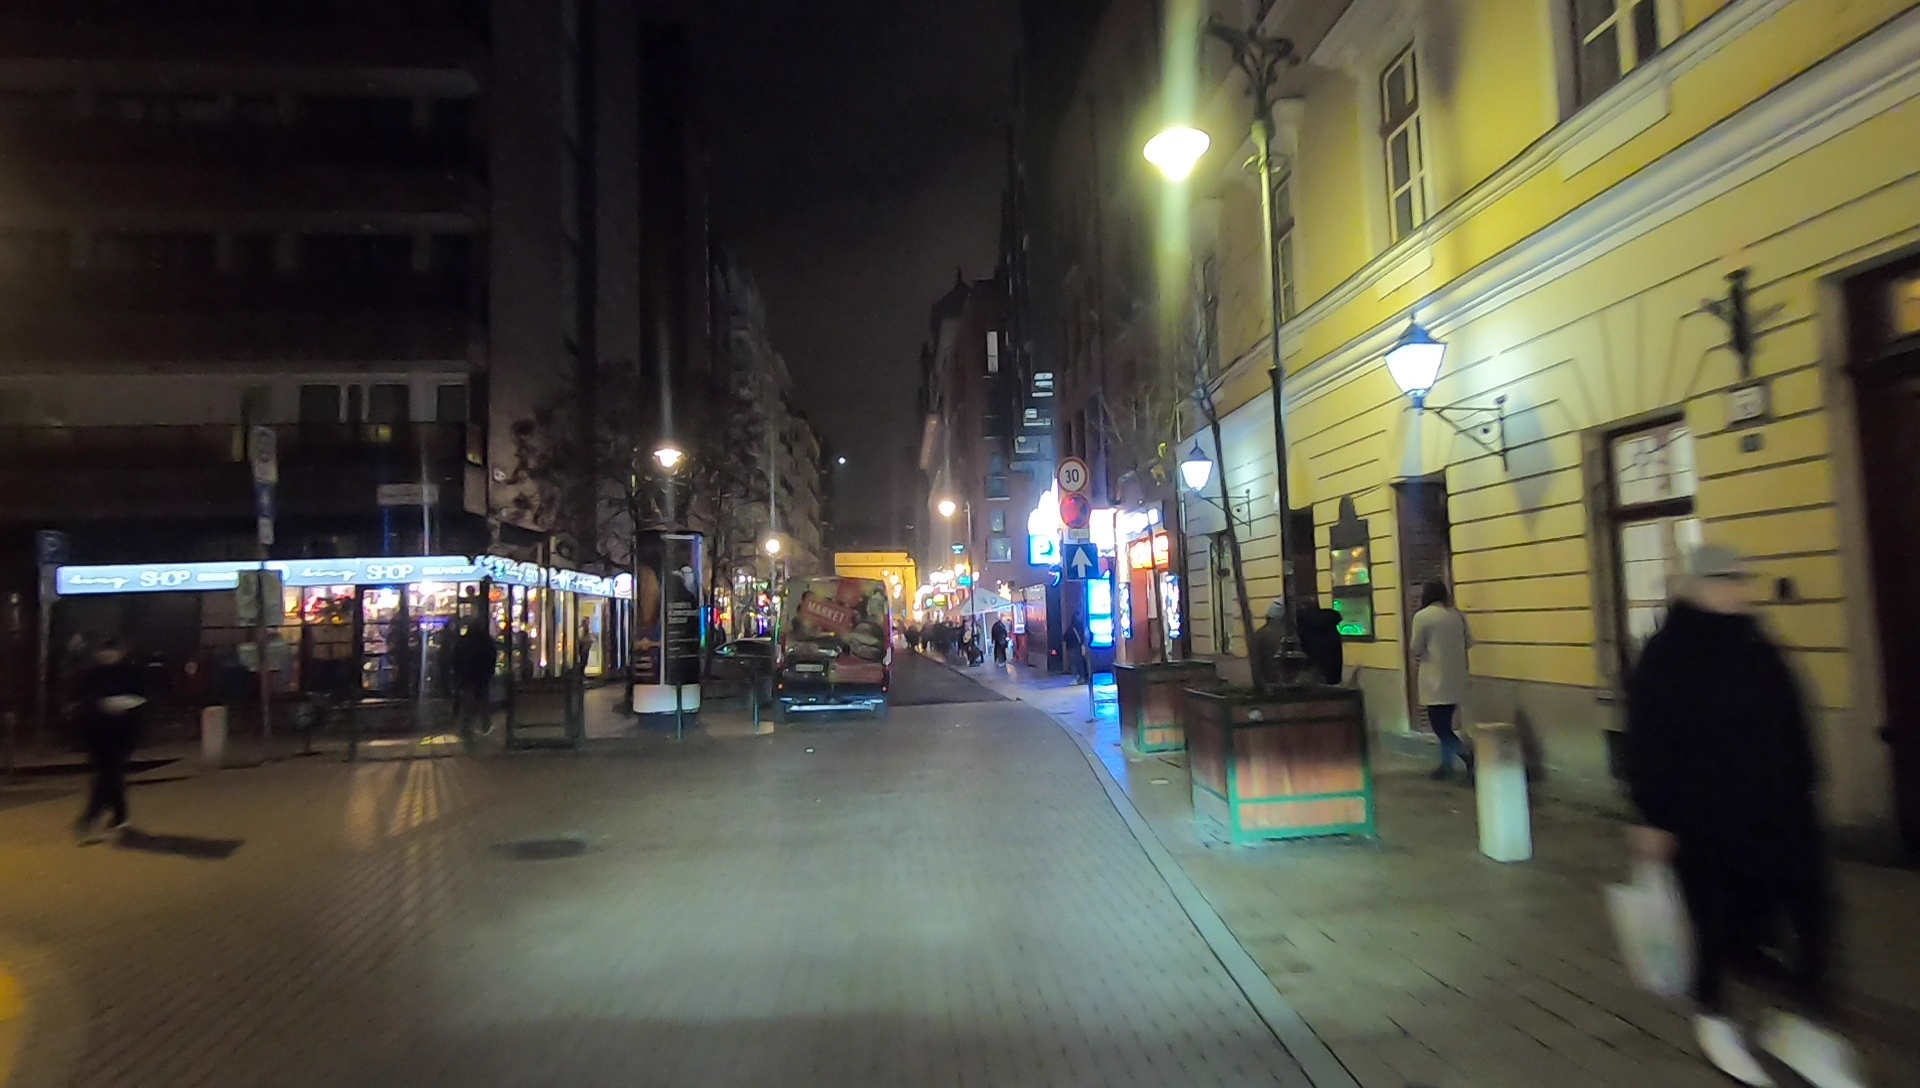person: (1604, 537, 1867, 1088), (1404, 574, 1488, 780), (71, 634, 145, 834), (1256, 597, 1293, 747), (451, 613, 495, 737)
